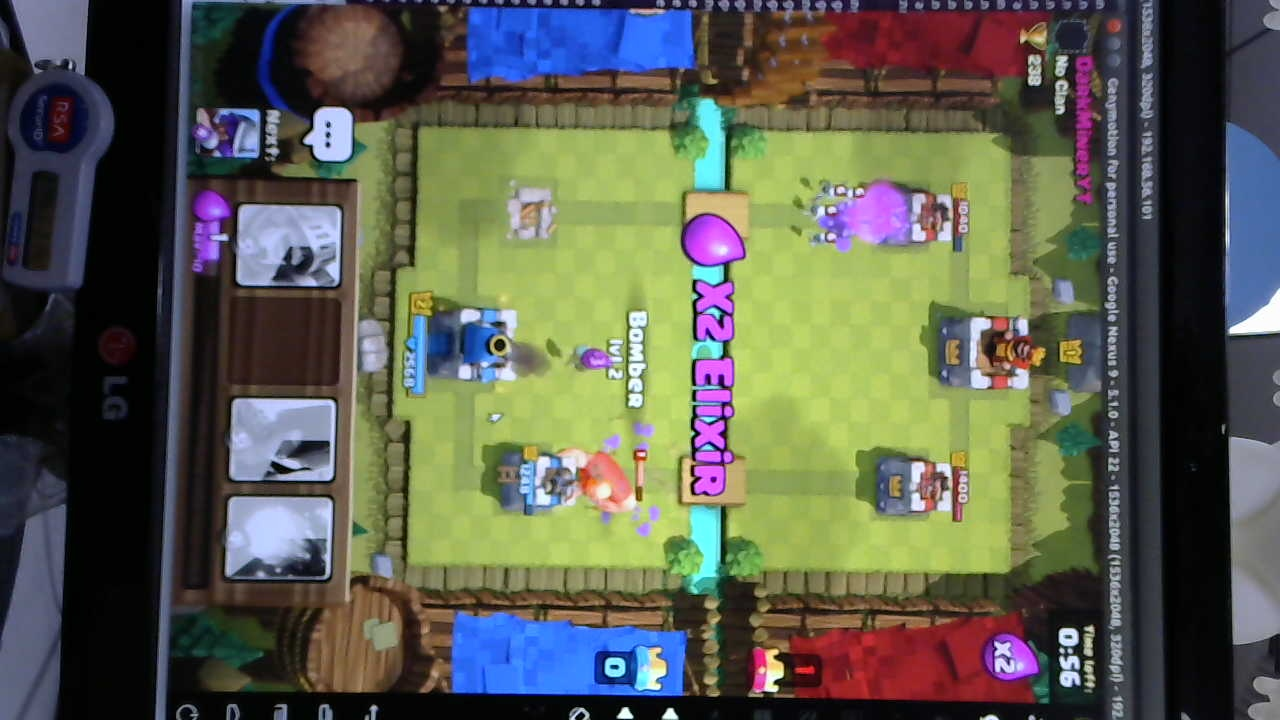arena: (497, 446, 576, 513)
darena: (508, 184, 557, 245)
earena: (874, 452, 954, 521), (876, 185, 954, 250)
eking: (937, 311, 1037, 394)
giant: (561, 446, 642, 513)
king: (431, 303, 525, 386)
skeleton: (805, 183, 867, 248)
